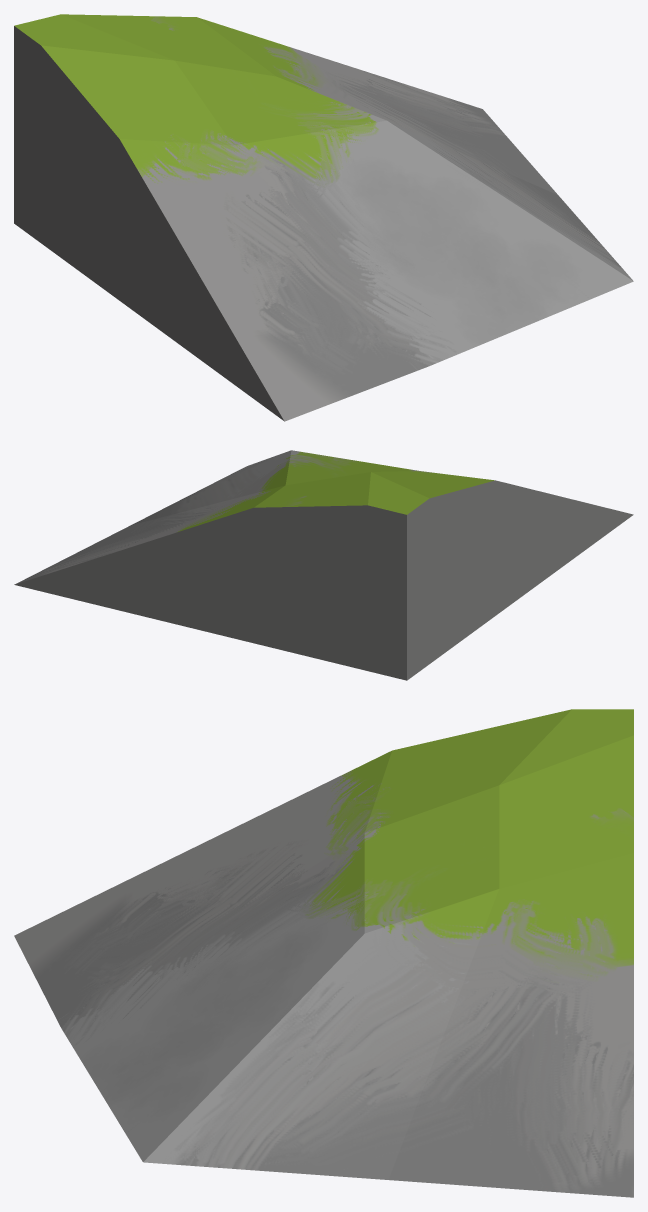
Rendered from mountainCornerTop.fbx.
The picture shows the model from 3 angles, top to bottom: view 1: azimuth 30°, elevation 25°; view 2: azimuth 150°, elevation 25°; view 3: azimuth 270°, elevation 25°; orthographic projection. The views are drawn at different scales.
Parts seen in each view (by area): view 1: MountainCornerTop; view 2: MountainCornerTop; view 3: MountainCornerTop.
Boxes of the visible parts, x1=… form: MountainCornerTop: x1=14, y1=14, x2=633, y2=421; MountainCornerTop: x1=14, y1=450, x2=633, y2=680; MountainCornerTop: x1=14, y1=709, x2=633, y2=1197.
Bounding box in the file's own units: 69.07 × 27.84 × 69.07.
Materials: 1 (1 with a texture image).
